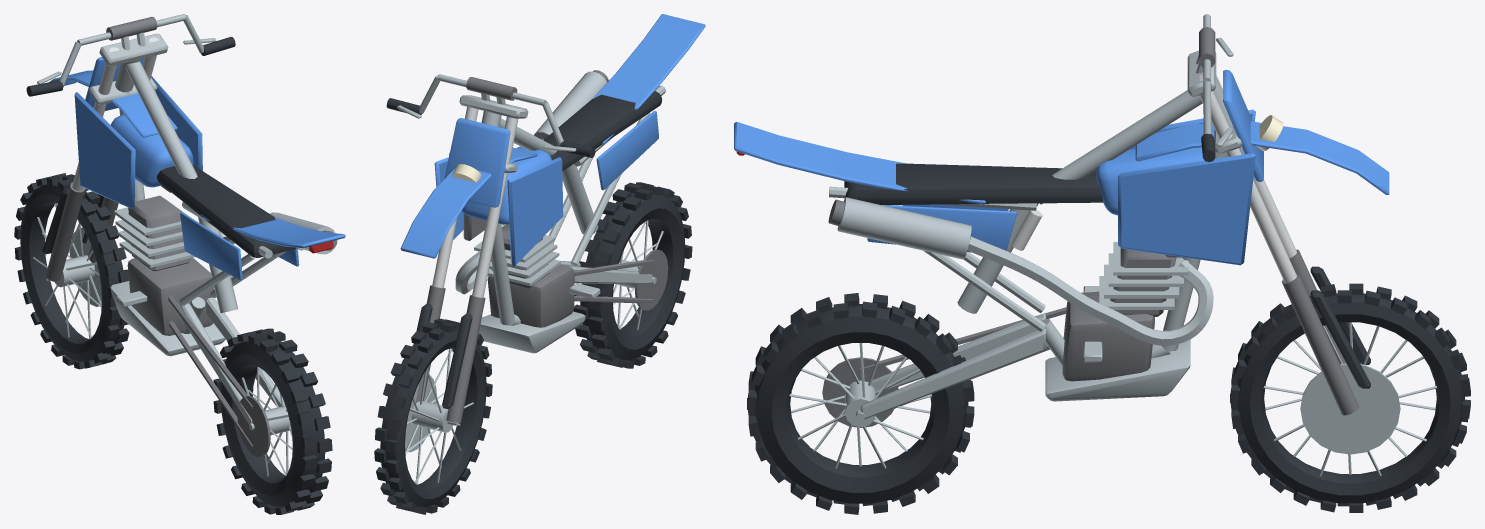
File: Scrambler.fbx
3 renders of one model, left to right at view 1: azimuth 30°, elevation 25°; view 2: azimuth 150°, elevation 25°; view 3: azimuth 270°, elevation 25°, orthographic. The views are drawn at different scales.
Parts seen in each view (by area): view 1: Body__metal, Body__paint, WheelRear__rubber, WheelFront__rubber, Body__engine, Body__rubber, Front__metal, Front__engine, WheelFront__metal, Front__paint, Front__rubber, WheelRear__metal (+2 smaller); view 2: Body__metal, Body__paint, WheelRear__rubber, WheelFront__rubber, Front__paint, Body__engine, Body__rubber, Front__engine, WheelFront__metal, Front__chrome, Front__metal, Front__rubber (+3 smaller); view 3: Body__metal, WheelRear__rubber, Body__paint, WheelFront__rubber, Body__rubber, Body__engine, WheelFront__metal, Front__paint, Front__engine, WheelRear__metal, Front__chrome, Front__rubber (+2 smaller).
Part boxes in pixels (x1,y1,x2,y2): Body__metal: (110, 59, 335, 430); Body__paint: (74, 76, 345, 280); WheelRear__rubber: (213, 328, 332, 514); WheelFront__rubber: (14, 173, 129, 369); Body__engine: (121, 185, 337, 448); Body__rubber: (156, 164, 296, 257); Front__metal: (37, 14, 216, 105); Front__engine: (46, 17, 157, 281); WheelFront__metal: (33, 203, 101, 339); Front__paint: (49, 57, 177, 137); Front__rubber: (26, 37, 235, 254); WheelRear__metal: (242, 366, 292, 476); Body__metal: (455, 71, 665, 353); Body__paint: (434, 14, 705, 266); WheelRear__rubber: (573, 182, 692, 368); WheelFront__rubber: (374, 318, 492, 514); Front__paint: (400, 118, 537, 258); Body__engine: (463, 70, 653, 327); Body__rubber: (543, 91, 662, 171); Front__engine: (415, 77, 517, 423); WheelFront__metal: (405, 348, 473, 484); Front__chrome: (432, 96, 518, 297); Front__metal: (397, 74, 576, 425); Front__rubber: (386, 98, 595, 408); Body__metal: (829, 77, 1232, 420); WheelRear__rubber: (747, 293, 974, 514); Body__paint: (734, 109, 1255, 265); WheelFront__rubber: (1230, 283, 1470, 512); Body__rubber: (844, 163, 1102, 204); Body__engine: (828, 199, 1184, 415); WheelFront__metal: (1263, 322, 1437, 476); Front__paint: (1135, 69, 1389, 194); Front__engine: (1199, 27, 1359, 415); WheelRear__metal: (789, 343, 931, 468); Front__chrome: (1199, 75, 1297, 282); Front__rubber: (1201, 133, 1370, 388).
Size of the model in its own units: 0.9221 by 1.64 by 2.35.
